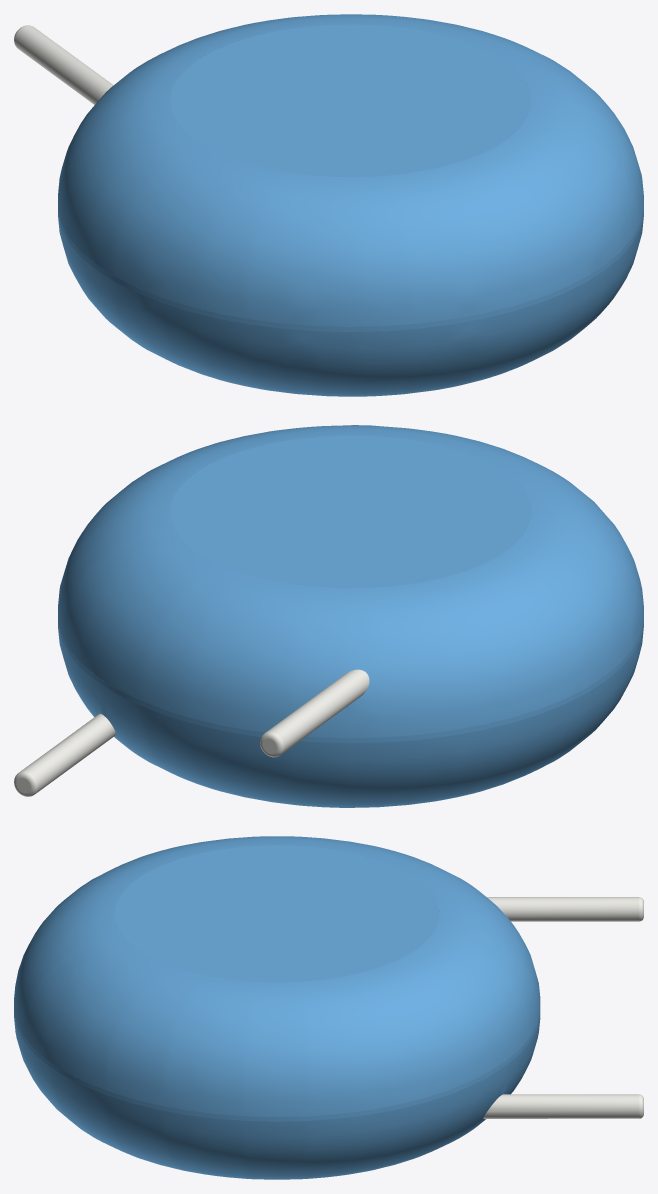
Rendered from RV_Disc_D15.5mm_W6.1mm_P7.5mm.glb.
3 views of the same model, one above another, from view 1: azimuth 30°, elevation 25°; view 2: azimuth 150°, elevation 25°; view 3: azimuth 270°, elevation 25° (orthographic). The views are drawn at different scales.
Visible parts, largest first — view 1: Shape_IndexedFaceSet.001, Shape_IndexedFaceSet.003, Shape_IndexedFaceSet.002, Shape_IndexedFaceSet, Shape_IndexedFaceSet.004; view 2: Shape_IndexedFaceSet.001, Shape_IndexedFaceSet.003, Shape_IndexedFaceSet.002, Shape_IndexedFaceSet, Shape_IndexedFaceSet.004, Shape_IndexedFaceSet.006; view 3: Shape_IndexedFaceSet.001, Shape_IndexedFaceSet.003, Shape_IndexedFaceSet.002, Shape_IndexedFaceSet.006, Shape_IndexedFaceSet.004, Shape_IndexedFaceSet.
Boxes of the visible parts, left/top/right/bottom form: Shape_IndexedFaceSet.001: left=58, top=14, right=643, bottom=326; Shape_IndexedFaceSet.003: left=170, top=24, right=531, bottom=176; Shape_IndexedFaceSet.002: left=58, top=216, right=643, bottom=396; Shape_IndexedFaceSet: left=58, top=211, right=643, bottom=331; Shape_IndexedFaceSet.004: left=14, top=25, right=113, bottom=104; Shape_IndexedFaceSet.001: left=58, top=425, right=643, bottom=737; Shape_IndexedFaceSet.003: left=170, top=435, right=531, bottom=588; Shape_IndexedFaceSet.002: left=58, top=588, right=643, bottom=807; Shape_IndexedFaceSet: left=58, top=622, right=643, bottom=743; Shape_IndexedFaceSet.004: left=266, top=669, right=369, bottom=754; Shape_IndexedFaceSet.006: left=20, top=713, right=115, bottom=793; Shape_IndexedFaceSet.001: left=14, top=836, right=540, bottom=1117; Shape_IndexedFaceSet.003: left=115, top=845, right=439, bottom=982; Shape_IndexedFaceSet.002: left=14, top=1017, right=540, bottom=1179; Shape_IndexedFaceSet.006: left=483, top=1094, right=638, bottom=1118; Shape_IndexedFaceSet.004: left=487, top=897, right=638, bottom=921; Shape_IndexedFaceSet: left=14, top=1013, right=540, bottom=1121.
Bounding box in the file's own units: 6.1 × 2.4 × 7.29.
